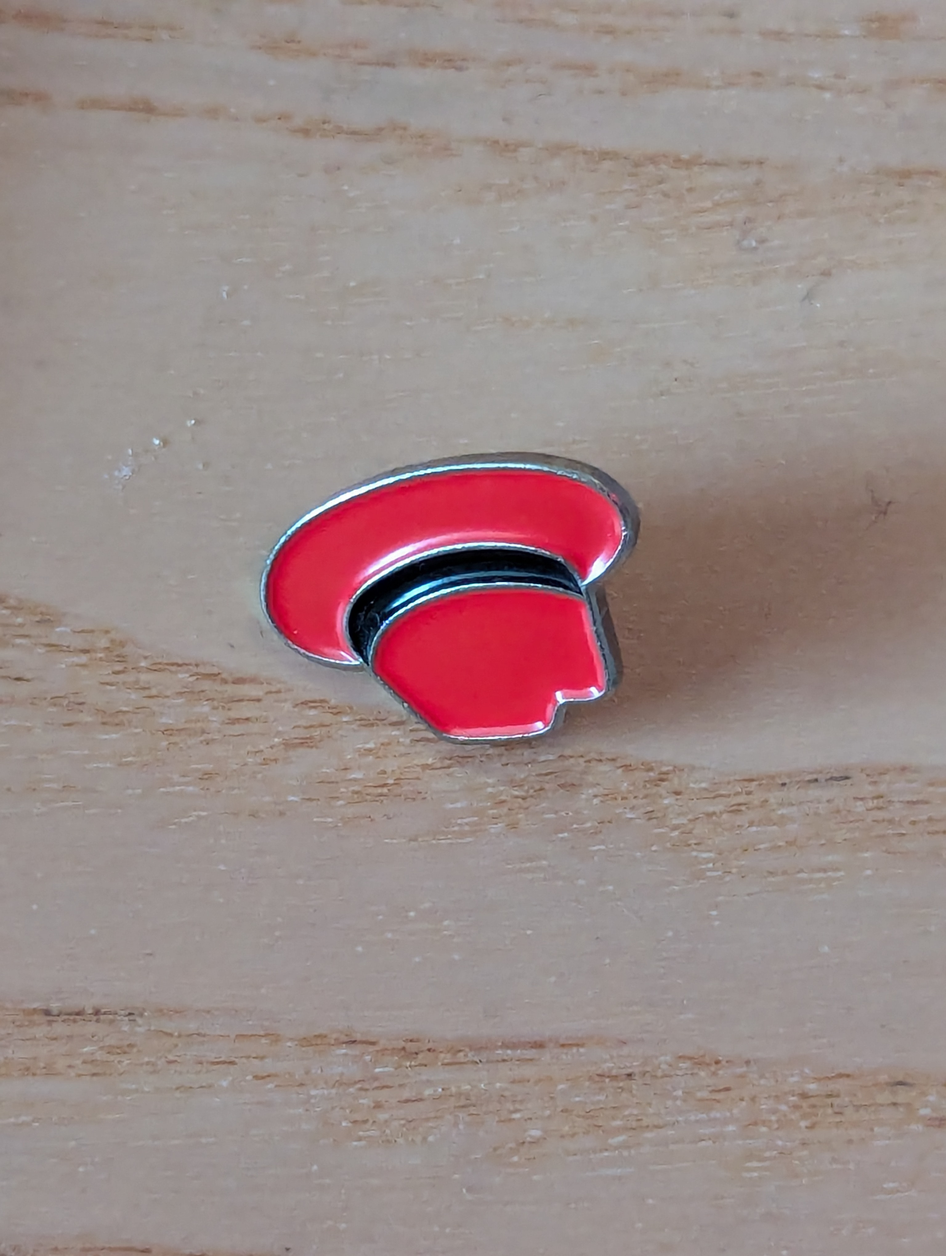Red-Hat: (154, 378, 806, 934)
